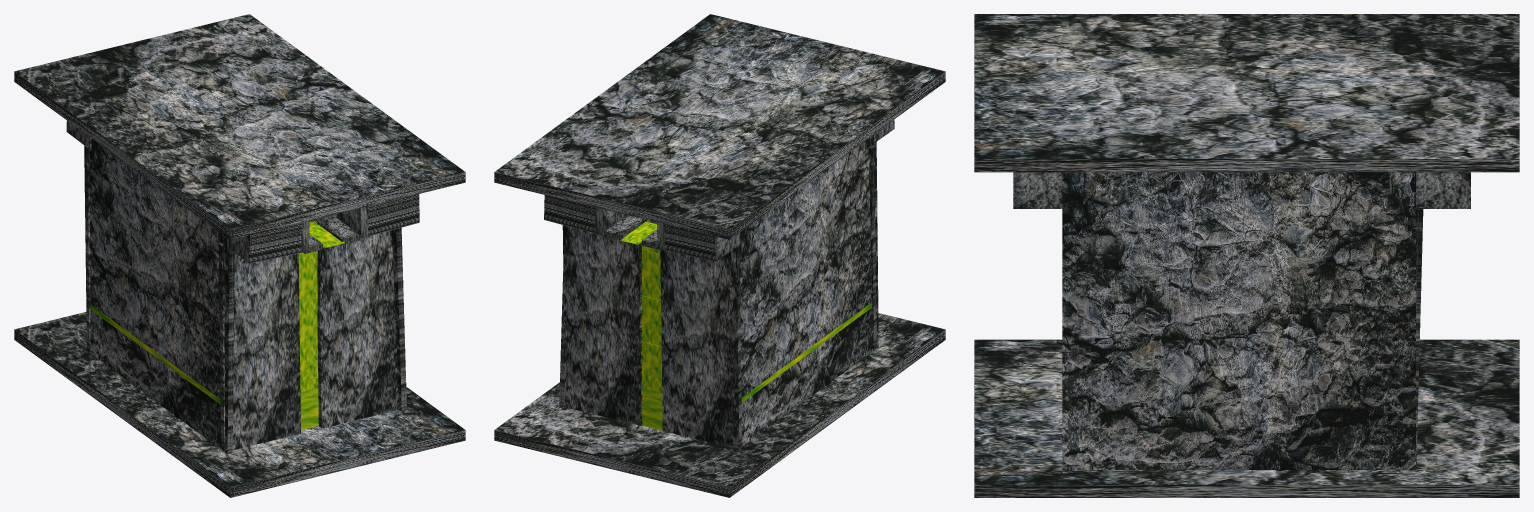
The model's file is level fall.fbx.
3 views of the same model, side by side, from view 1: azimuth 30°, elevation 25°; view 2: azimuth 150°, elevation 25°; view 3: azimuth 270°, elevation 25° (orthographic). The views are drawn at different scales.
Visible parts, largest first — view 1: ceiling, pool wall 1, floor, pool wall 5, pool wall 6, acid 2, wall 4, wall 3, pool wall 4, acid pool, pool wall 2, path 3; view 2: ceiling, pool wall 1, floor, pool wall 2, pool wall 3, acid 1, wall 2, wall 1, acid pool, pool wall 6, path 2, pool wall 4; view 3: pool wall 4, ceiling, floor, wall 1, wall 4, pool wall 3.
Boxes of the visible parts, bbox=[...] form: ceiling: bbox=[14, 14, 465, 239]; pool wall 1: bbox=[90, 139, 234, 453]; floor: bbox=[14, 312, 465, 497]; pool wall 5: bbox=[316, 215, 398, 428]; pool wall 6: bbox=[219, 243, 300, 452]; acid 2: bbox=[298, 221, 344, 391]; wall 4: bbox=[337, 194, 419, 238]; wall 3: bbox=[231, 221, 309, 263]; pool wall 4: bbox=[309, 214, 406, 411]; acid pool: bbox=[90, 304, 318, 429]; pool wall 2: bbox=[84, 145, 90, 353]; path 3: bbox=[318, 217, 360, 244]; ceiling: bbox=[494, 14, 945, 239]; pool wall 1: bbox=[733, 132, 878, 449]; floor: bbox=[494, 313, 945, 497]; pool wall 2: bbox=[660, 244, 742, 449]; pool wall 3: bbox=[562, 218, 642, 425]; acid 1: bbox=[620, 221, 662, 392]; wall 2: bbox=[657, 222, 740, 261]; wall 1: bbox=[544, 195, 626, 235]; acid pool: bbox=[642, 303, 871, 430]; pool wall 6: bbox=[868, 145, 876, 350]; path 2: bbox=[605, 215, 646, 239]; pool wall 4: bbox=[559, 220, 656, 406]; pool wall 4: bbox=[1062, 172, 1415, 469]; ceiling: bbox=[974, 14, 1519, 172]; floor: bbox=[974, 339, 1519, 497]; wall 1: bbox=[1416, 172, 1470, 208]; wall 4: bbox=[1013, 172, 1062, 208]; pool wall 3: bbox=[1416, 207, 1423, 465].
Size of the model in its own units: 16352 by 17886 by 25996.
2 materials, 2 textured.
